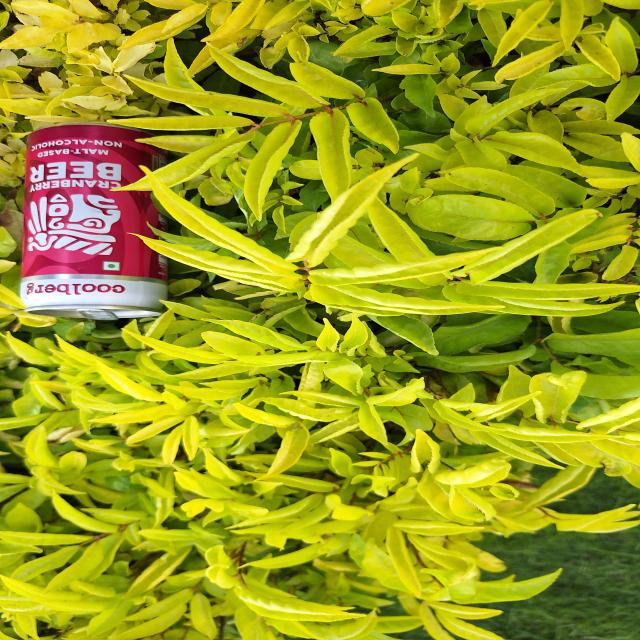Coolberg: (28, 127, 175, 314)
